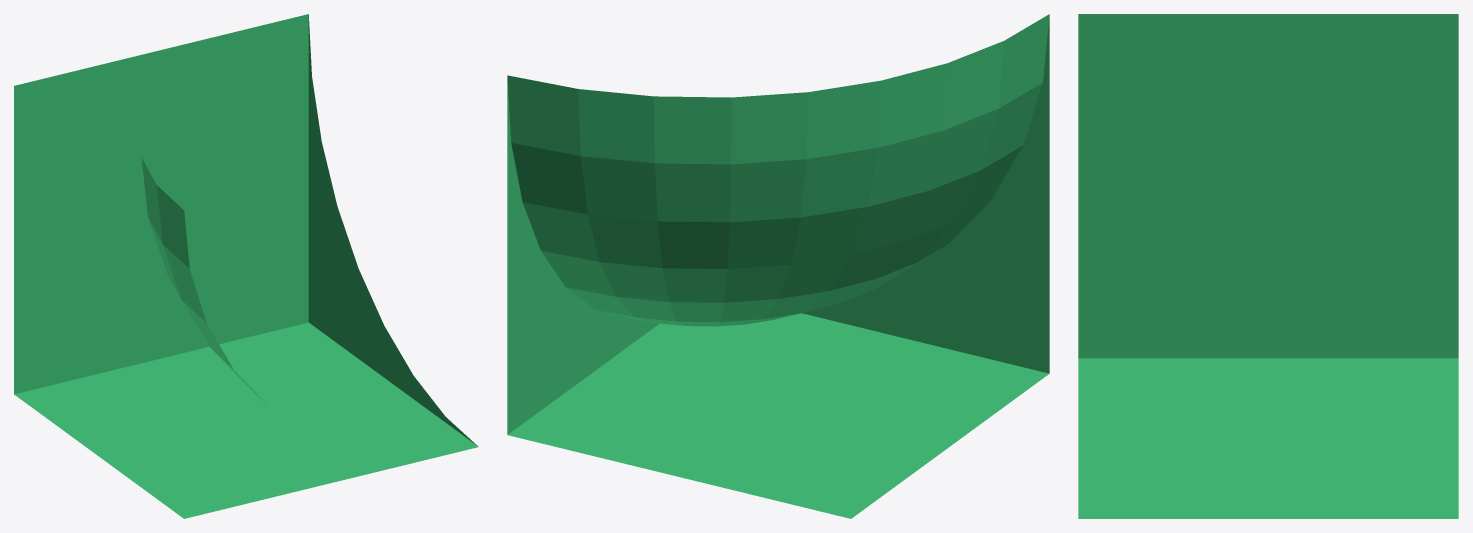
Rendered from r4c2_border_green.gltf.
3 views of the same model, side by side, from view 1: azimuth 30°, elevation 25°; view 2: azimuth 150°, elevation 25°; view 3: azimuth 270°, elevation 25° (orthographic). The views are drawn at different scales.
Parts seen in each view (by area): view 1: r4c2_border_green; view 2: r4c2_border_green; view 3: r4c2_border_green.
Boxes of the visible parts, box(x1,y1,x2,y2) form: r4c2_border_green: box(14, 14, 478, 518); r4c2_border_green: box(507, 14, 1049, 518); r4c2_border_green: box(1078, 14, 1458, 518).
Bounding box in the file's own units: 2.1 × 2.1 × 2.1.
1 material, 1 textured.
